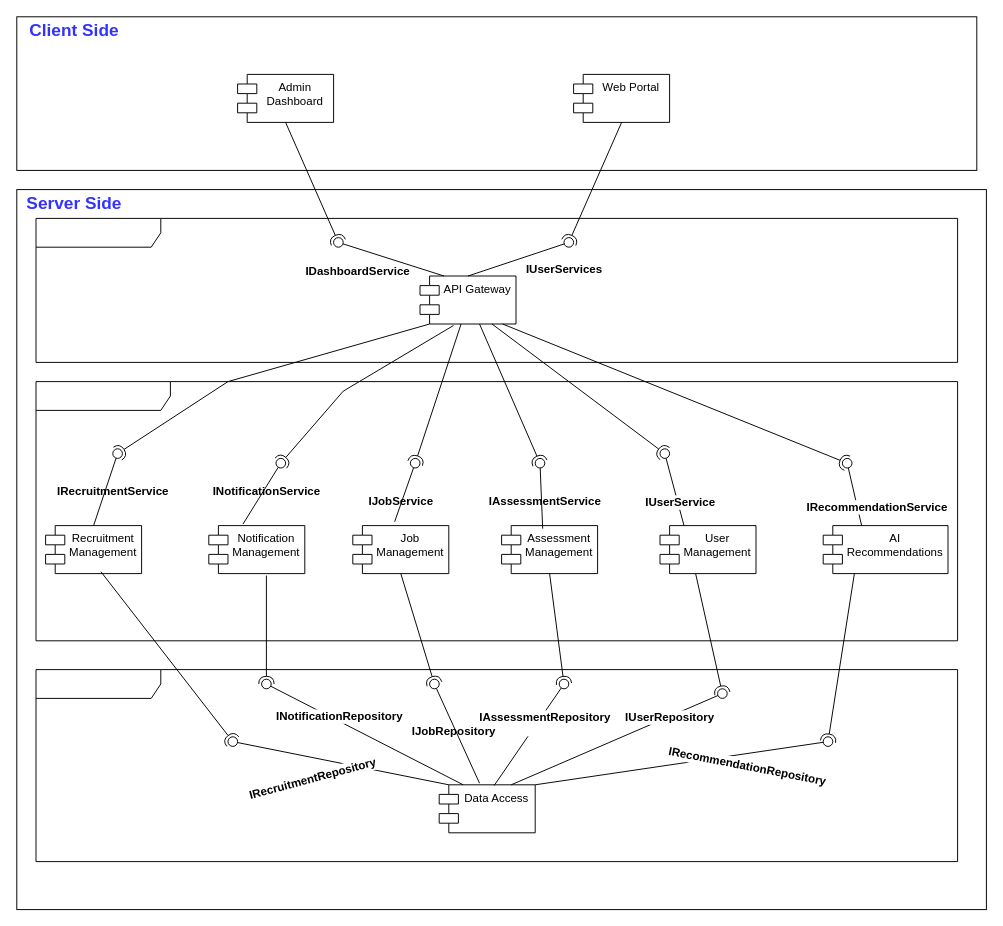
The diagram is 1003 pixels wide and 926 high, and some of its shapes have lost their labels. The shapes that lost their labels are listed below. From the top down, each one's centre as x and y in pixels, then its label:
(x=496, y=289): Presentation Layer
(x=496, y=511): Business Logic Layer
(x=496, y=765): Data Access Layer
